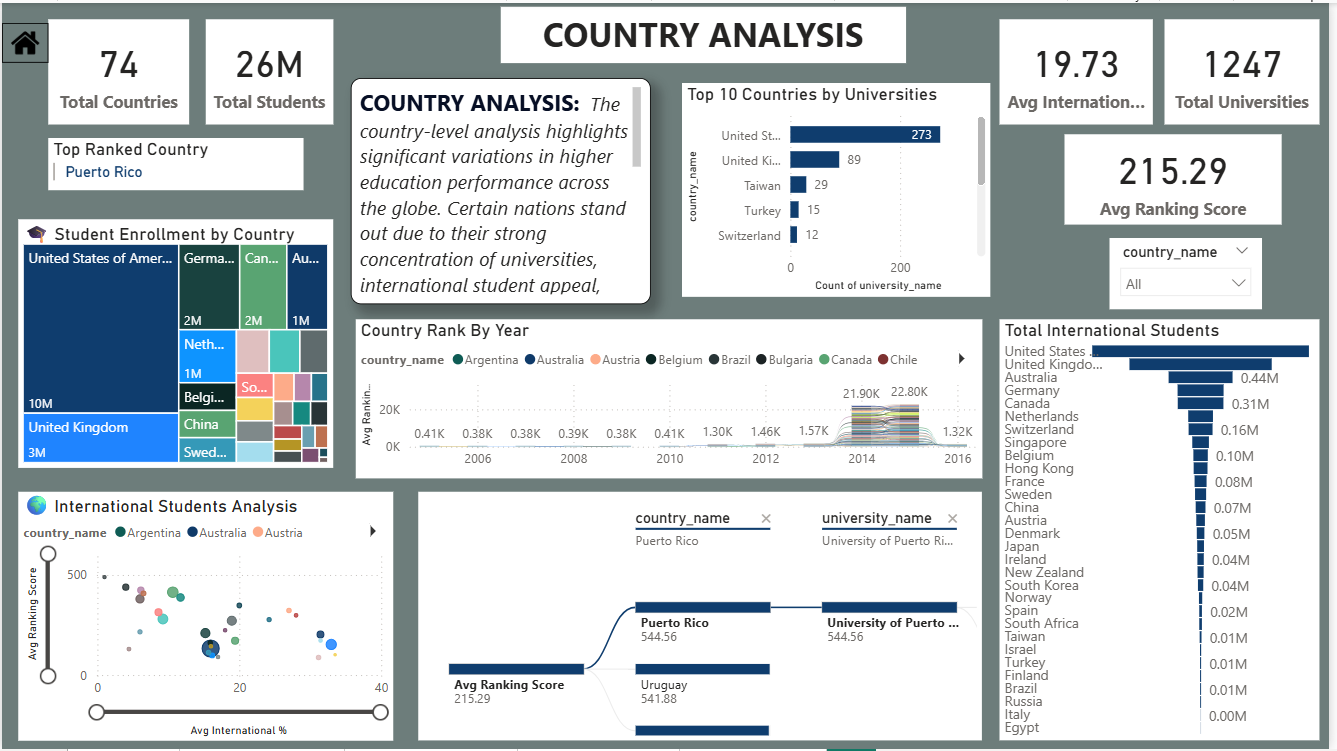

What the dashboard file says about the page in this screenshot:
{"tool":"powerbi","page":{"name":"Country Analysis","canvas":[1280,720],"ordinal":1},"visuals":[{"type":"textbox","box":[336.6,72.4,289.5,218.4],"z":0},{"type":"textbox","box":[481.4,3.6,390.9,54.3],"z":1000},{"type":"card","fields":{"Values":["Table.Total Countries"]},"box":[44.6,15.7,136.3,101.3],"z":2000},{"type":"card","fields":{"Values":["Table.Total Universities"]},"box":[1122,15.7,149.6,101.3],"z":3000},{"type":"multiRowCard","title":"Top Ranked Country","fields":{"Values":["Table.Top Ranked Country"]},"box":[44.6,130.3,246.1,50.7],"z":4000},{"type":"card","fields":{"Values":["Table.Total Students"]},"box":[196.6,15.7,123.1,101.3],"z":5000},{"type":"card","fields":{"Values":["Table.Avg International %"]},"box":[962.7,15.7,148.4,101.3],"z":6000},{"type":"card","fields":{"Values":["Table.Avg Ranking Score"]},"box":[1025.5,126.7,209.9,86.9],"z":7000},{"type":"slicer","fields":{"Values":["country.country_name"]},"box":[1068.9,226.8,147.2,68.8],"z":8000},{"type":"funnel","title":"Total International Students","fields":{"Category":["country.country_name"],"Y":["Sum(university_year.Total_Int_Student)"]},"box":[962.7,305.2,308.8,406.6],"z":9000},{"type":"barChart","title":"Top 10 Countries by Universities","fields":{"Category":["country.country_name"],"Y":["CountNonNull(university.university_name)"]},"box":[656.3,77.2,298,206.3],"z":10000},{"type":"treemap","title":"🎓 Student Enrollment by Country","fields":{"Group":["country.country_name"],"Values":["Table.Total Students"]},"box":[15.7,208.7,304,240.1],"z":11000},{"type":"scatterChart","title":"🌍 International Students Analysis","fields":{"X":["Table.Avg International %"],"Y":["Table.Avg Ranking Score"],"Series":["country.country_name"],"Size":["Table.Total Universities"]},"box":[15.7,471.7,361.9,240.1],"z":12000},{"type":"decompositionTreeVisual","fields":{"Analyze":["Table.Avg Ranking Score"],"ExplainBy":["country.country_name","university.university_name","university_ranking_year.year"]},"box":[401.7,471.7,544.1,240.1],"z":13000},{"type":"ribbonChart","title":"Country Rank By Year","fields":{"Series":["country.country_name"],"Category":["university_ranking_year.year"],"Y":["Table.Avg Ranking Score"]},"box":[341.4,305.2,604.4,153.2],"z":14000},{"type":"image","box":[0,19.3,44.6,38.6],"z":14001}]}

Visuals, with their boxes in screenshot pixels (x1, y1, x2, y2), scaled from the page's 1280x720 canvas onto the 1337x751 screenshot:
textbox: box(352, 76, 654, 303)
textbox: box(503, 4, 911, 60)
card - Table.Total Countries: box(47, 16, 189, 122)
card - Table.Total Universities: box(1172, 16, 1328, 122)
"Top Ranked Country" multiRowCard: box(47, 136, 304, 189)
card - Table.Total Students: box(205, 16, 334, 122)
card - Table.Avg International %: box(1006, 16, 1161, 122)
card - Table.Avg Ranking Score: box(1071, 132, 1290, 223)
slicer - country.country_name: box(1116, 237, 1270, 308)
"Total International Students" funnel: box(1006, 318, 1328, 742)
"Top 10 Countries by Universities" barChart: box(686, 81, 997, 296)
"🎓 Student Enrollment by Country" treemap: box(16, 218, 334, 468)
"🌍 International Students Analysis" scatterChart: box(16, 492, 394, 742)
decompositionTreeVisual - Table.Avg Ranking Score x country.country_name: box(420, 492, 988, 742)
"Country Rank By Year" ribbonChart: box(357, 318, 988, 478)
image: box(0, 20, 47, 60)
